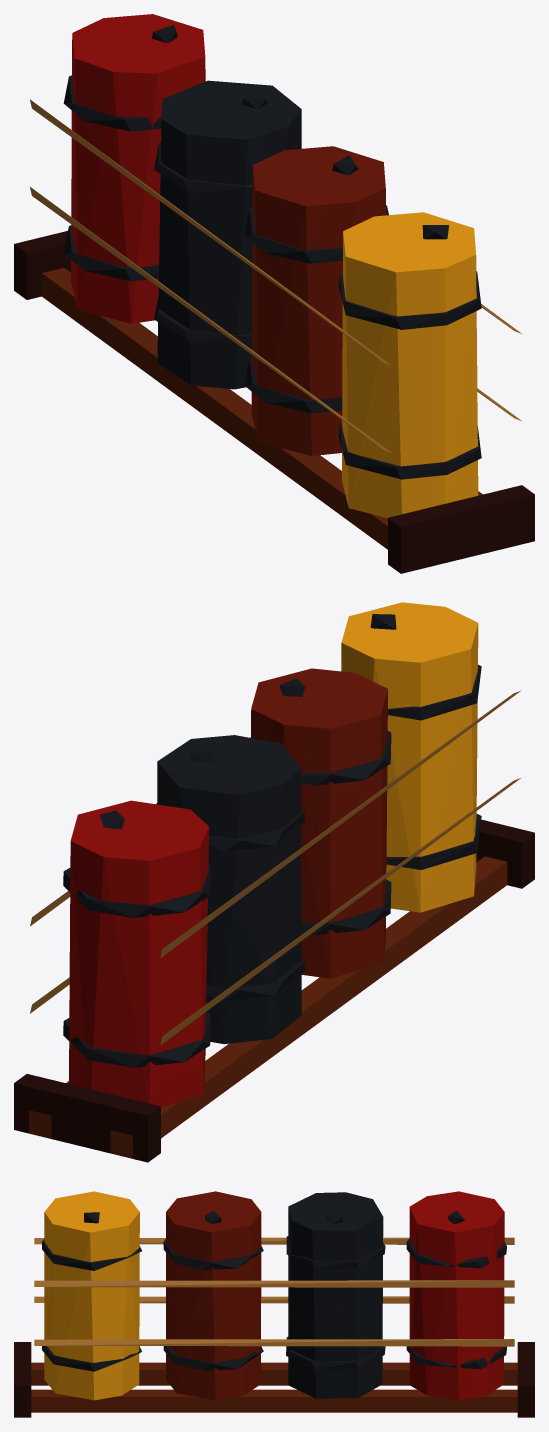
Rendered from tb_upg_fuel_drums.three-web-toon.lod50.glb.
The picture shows the model from 3 angles, top to bottom: view 1: azimuth 30°, elevation 25°; view 2: azimuth 150°, elevation 25°; view 3: azimuth 270°, elevation 25°; orthographic projection. The views are drawn at different scales.
Parts seen in each view (by area): view 1: tb_upg_fuel_drums_mesh_lod; view 2: tb_upg_fuel_drums_mesh_lod; view 3: tb_upg_fuel_drums_mesh_lod.
Part boxes in pixels (x1,y1,x2,y2): tb_upg_fuel_drums_mesh_lod: (14,14,534,573); tb_upg_fuel_drums_mesh_lod: (14,602,534,1162); tb_upg_fuel_drums_mesh_lod: (14,1191,534,1417).
Bounding box in the file's own units: 0.3727 × 0.7225 × 1.8.
